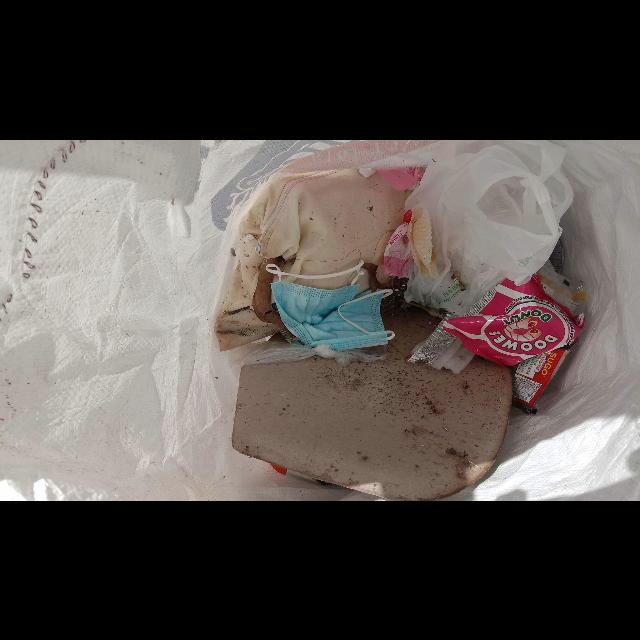food_wrapper: (442, 274, 586, 413), (382, 209, 415, 277)
plastic_bag: (404, 139, 574, 316)
